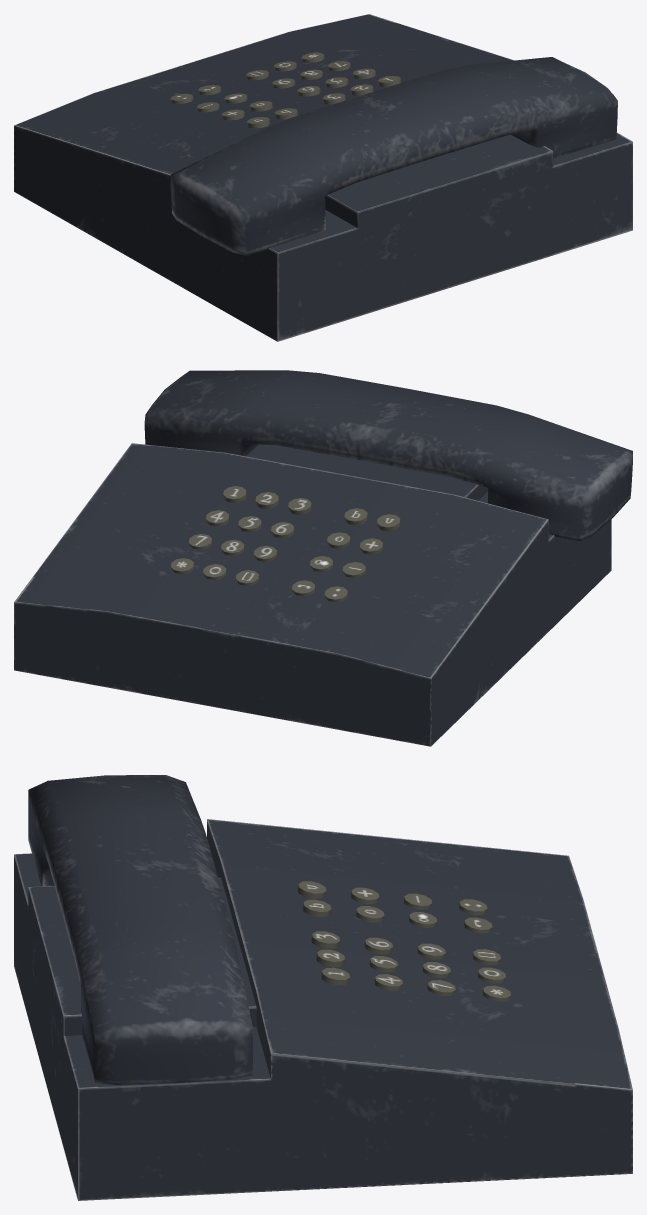
The model's file is telephone.gltf.
3 renders of one model, top to bottom at view 1: azimuth 30°, elevation 25°; view 2: azimuth 150°, elevation 25°; view 3: azimuth 270°, elevation 25°, orthographic. The views are drawn at different scales.
Visible parts, largest first — view 1: Object_21, Object_21.001; view 2: Object_21, Object_21.001; view 3: Object_21, Object_21.001.
Part boxes in pixels (<box>): Object_21: <box>14,14,632,341</box>; Object_21.001: <box>170,57,617,255</box>; Object_21: <box>14,443,611,746</box>; Object_21.001: <box>144,370,632,540</box>; Object_21: <box>14,819,632,1200</box>; Object_21.001: <box>28,775,252,1084</box>.
Size of the model in its own units: 1.34 by 0.4775 by 1.34.
1 material, 1 textured.
